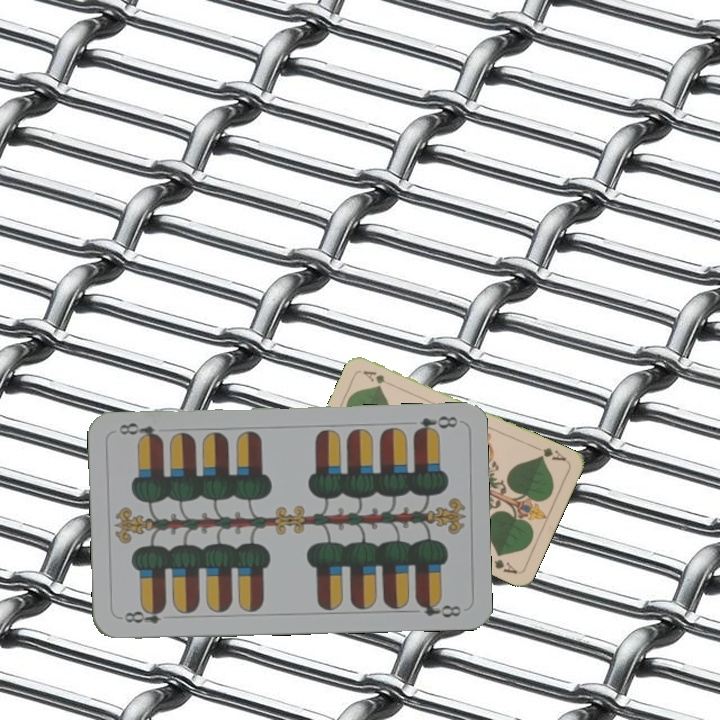E8: (409, 411, 460, 437), (117, 603, 168, 626)
GA: (531, 442, 569, 464)
